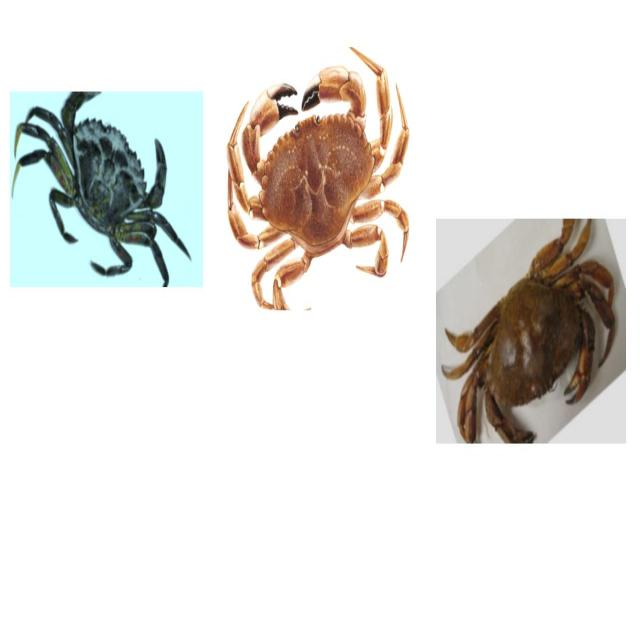egc: (11, 92, 201, 290)
jonah_crab: (218, 54, 412, 293)
rock_crab: (446, 239, 614, 442)
